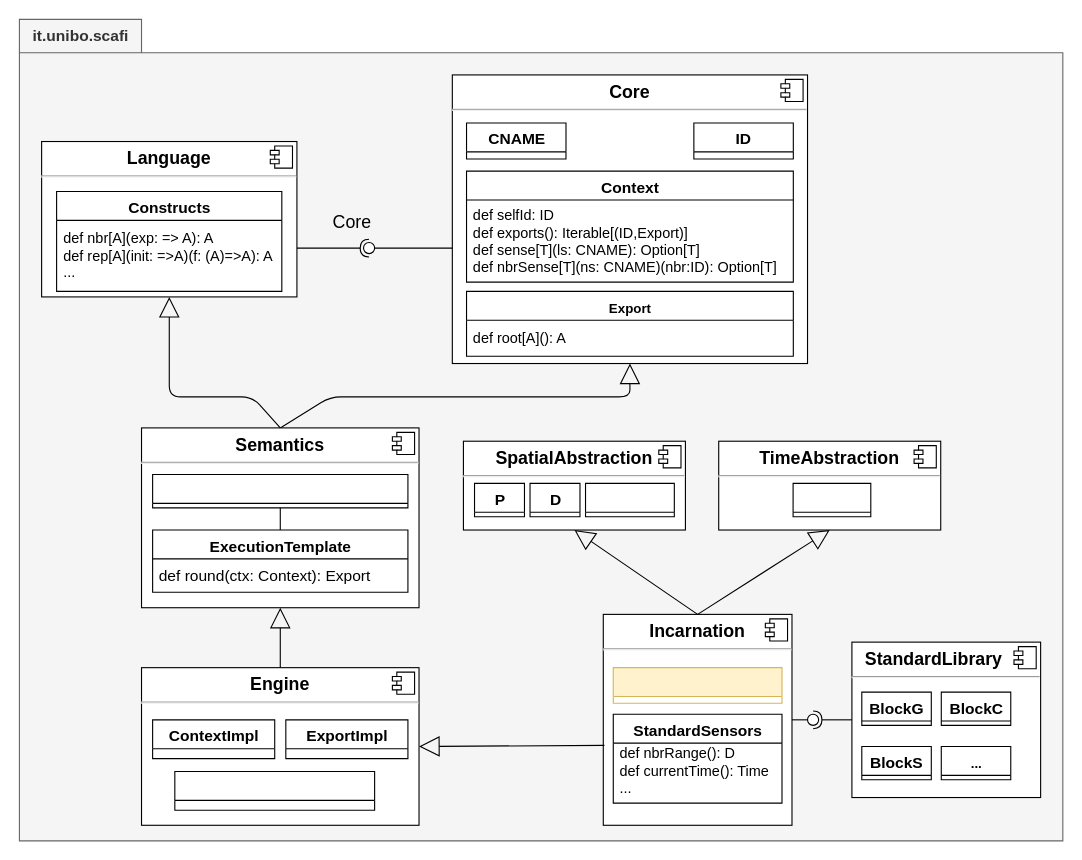
Some shapes in this 1082 by 860 pixel diagram are drawn without their labels. Each missing label, with the centre of its shape:
"AggregateProgram" goes at (x=697, y=685).
"factory : EngineFactory" goes at (x=274, y=790).
"RoundVM" goes at (x=280, y=490).
"Space[E]" goes at (x=629, y=499).
"Time" goes at (x=831, y=499).
